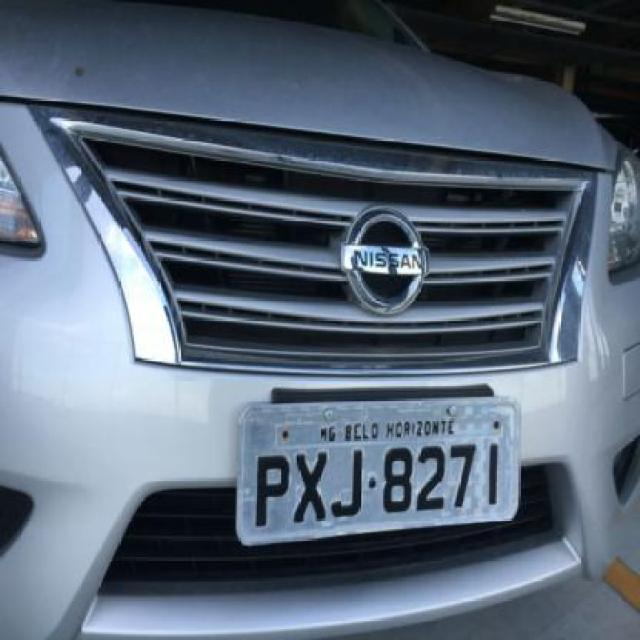old_plate: (231, 388, 525, 552)
